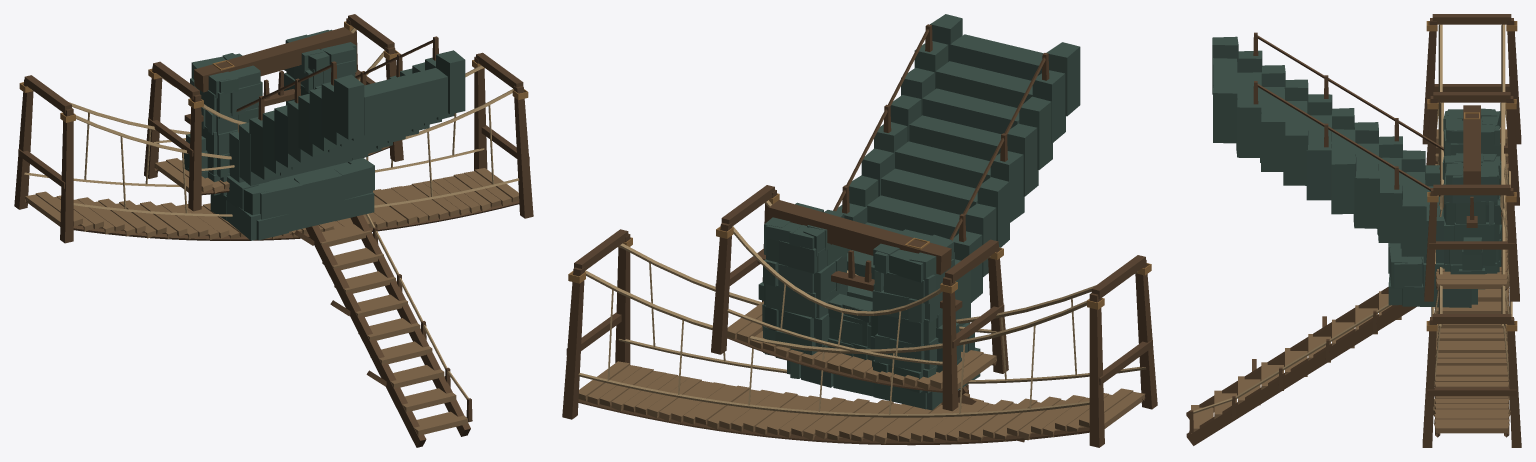
The model's file is Windrift_Courts.fbx.
The picture shows the model from 3 angles, left to right: view 1: azimuth 30°, elevation 25°; view 2: azimuth 150°, elevation 25°; view 3: azimuth 270°, elevation 25°; orthographic projection. The views are drawn at different scales.
Visible parts, largest first — view 1: Windrift_Courts_Flight11__Stone, Windrift_Courts_GreatSpan__Plank, Windrift_Courts_GreatSpan__Timber, Windrift_Courts_Landing__Stone, Windrift_Courts_MossGate__Stone, Windrift_Courts_CleftStair__Plank, Windrift_Courts_CleftStair__Timber, Windrift_Courts_GorgeBridge__Timber, Windrift_Courts_GreatSpan__Rope, Windrift_Courts_MossGate__Timber, Windrift_Courts_Flight11__Timber, Windrift_Courts_GorgeBridge__Plank (+2 smaller); view 2: Windrift_Courts_Flight11__Stone, Windrift_Courts_GreatSpan__Plank, Windrift_Courts_MossGate__Stone, Windrift_Courts_GreatSpan__Timber, Windrift_Courts_GreatSpan__Rope, Windrift_Courts_GorgeBridge__Timber, Windrift_Courts_GorgeBridge__Plank, Windrift_Courts_MossGate__Timber, Windrift_Courts_GorgeBridge__Rope, Windrift_Courts_Flight11__Timber, Windrift_Courts_Landing__Stone, Windrift_Courts_WallRough12__Stone (+2 smaller); view 3: Windrift_Courts_Flight11__Stone, Windrift_Courts_GreatSpan__Plank, Windrift_Courts_GreatSpan__Timber, Windrift_Courts_MossGate__Stone, Windrift_Courts_GorgeBridge__Timber, Windrift_Courts_CleftStair__Timber, Windrift_Courts_Landing__Stone, Windrift_Courts_CleftStair__Plank, Windrift_Courts_GreatSpan__Rope, Windrift_Courts_Flight11__Timber, Windrift_Courts_MossGate__Timber, Windrift_Courts_GorgeBridge__Plank (+5 smaller).
Boxes of the visible parts, box(x1,y1,x2,y2) form: Windrift_Courts_Flight11__Stone: box(229, 50, 465, 185); Windrift_Courts_GreatSpan__Plank: box(25, 168, 519, 240); Windrift_Courts_GreatSpan__Timber: box(14, 52, 533, 243); Windrift_Courts_Landing__Stone: box(210, 158, 374, 240); Windrift_Courts_MossGate__Stone: box(190, 29, 356, 195); Windrift_Courts_CleftStair__Plank: box(310, 224, 468, 435); Windrift_Courts_CleftStair__Timber: box(294, 215, 472, 447); Windrift_Courts_GorgeBridge__Timber: box(144, 14, 403, 211); Windrift_Courts_GreatSpan__Rope: box(24, 65, 519, 216); Windrift_Courts_MossGate__Timber: box(194, 27, 353, 92); Windrift_Courts_Flight11__Timber: box(236, 36, 438, 120); Windrift_Courts_GorgeBridge__Plank: box(154, 146, 388, 193); Windrift_Courts_Flight11__Stone: box(836, 14, 1080, 326); Windrift_Courts_GreatSpan__Plank: box(578, 361, 1145, 444); Windrift_Courts_MossGate__Stone: box(762, 202, 956, 393); Windrift_Courts_GreatSpan__Timber: box(562, 229, 1157, 447); Windrift_Courts_GreatSpan__Rope: box(578, 243, 1146, 417); Windrift_Courts_GorgeBridge__Timber: box(711, 185, 1008, 411); Windrift_Courts_GorgeBridge__Plank: box(727, 301, 996, 389); Windrift_Courts_MossGate__Timber: box(768, 200, 951, 274); Windrift_Courts_GorgeBridge__Rope: box(727, 200, 996, 365); Windrift_Courts_Flight11__Timber: box(833, 24, 1049, 242); Windrift_Courts_Landing__Stone: box(787, 322, 980, 410); Windrift_Courts_WallRough12__Stone: box(758, 282, 961, 372); Windrift_Courts_Flight11__Stone: box(1212, 36, 1444, 262); Windrift_Courts_GreatSpan__Plank: box(1433, 129, 1510, 433); Windrift_Courts_GreatSpan__Timber: box(1422, 14, 1521, 447); Windrift_Courts_MossGate__Stone: box(1442, 108, 1501, 274); Windrift_Courts_GorgeBridge__Timber: box(1424, 92, 1519, 301); Windrift_Courts_CleftStair__Timber: box(1186, 287, 1416, 445); Windrift_Courts_Landing__Stone: box(1388, 243, 1477, 307); Windrift_Courts_CleftStair__Plank: box(1191, 291, 1401, 433); Windrift_Courts_GreatSpan__Rope: box(1431, 24, 1512, 411); Windrift_Courts_Flight11__Timber: box(1253, 32, 1443, 196); Windrift_Courts_MossGate__Timber: box(1463, 105, 1480, 184); Windrift_Courts_GorgeBridge__Plank: box(1435, 195, 1508, 288).
Bounding box in the file's own units: 33.63 × 25.68 × 21.39.
